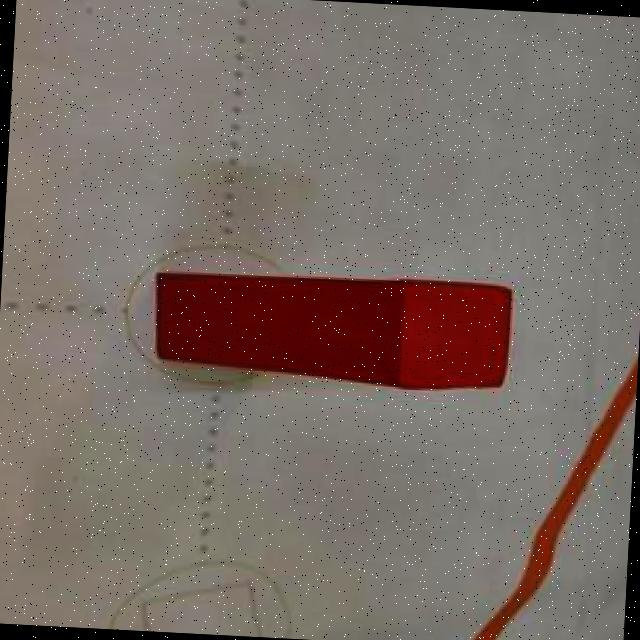redbox: (145, 265, 518, 394)
